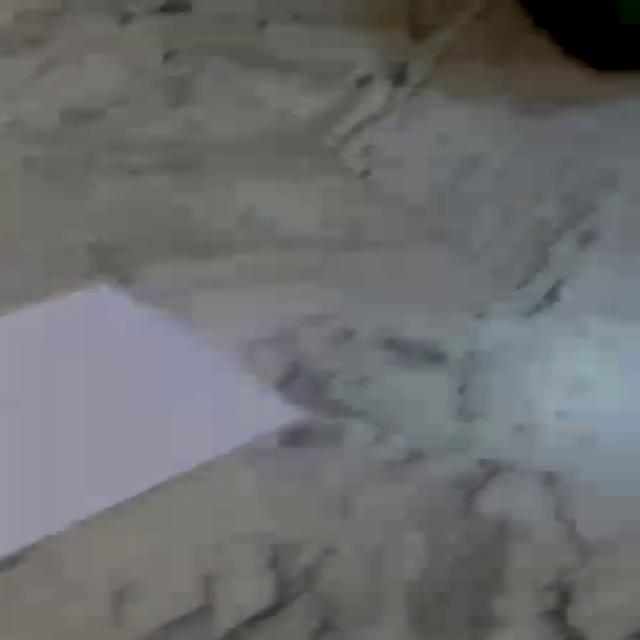road: (0, 284, 300, 562)
